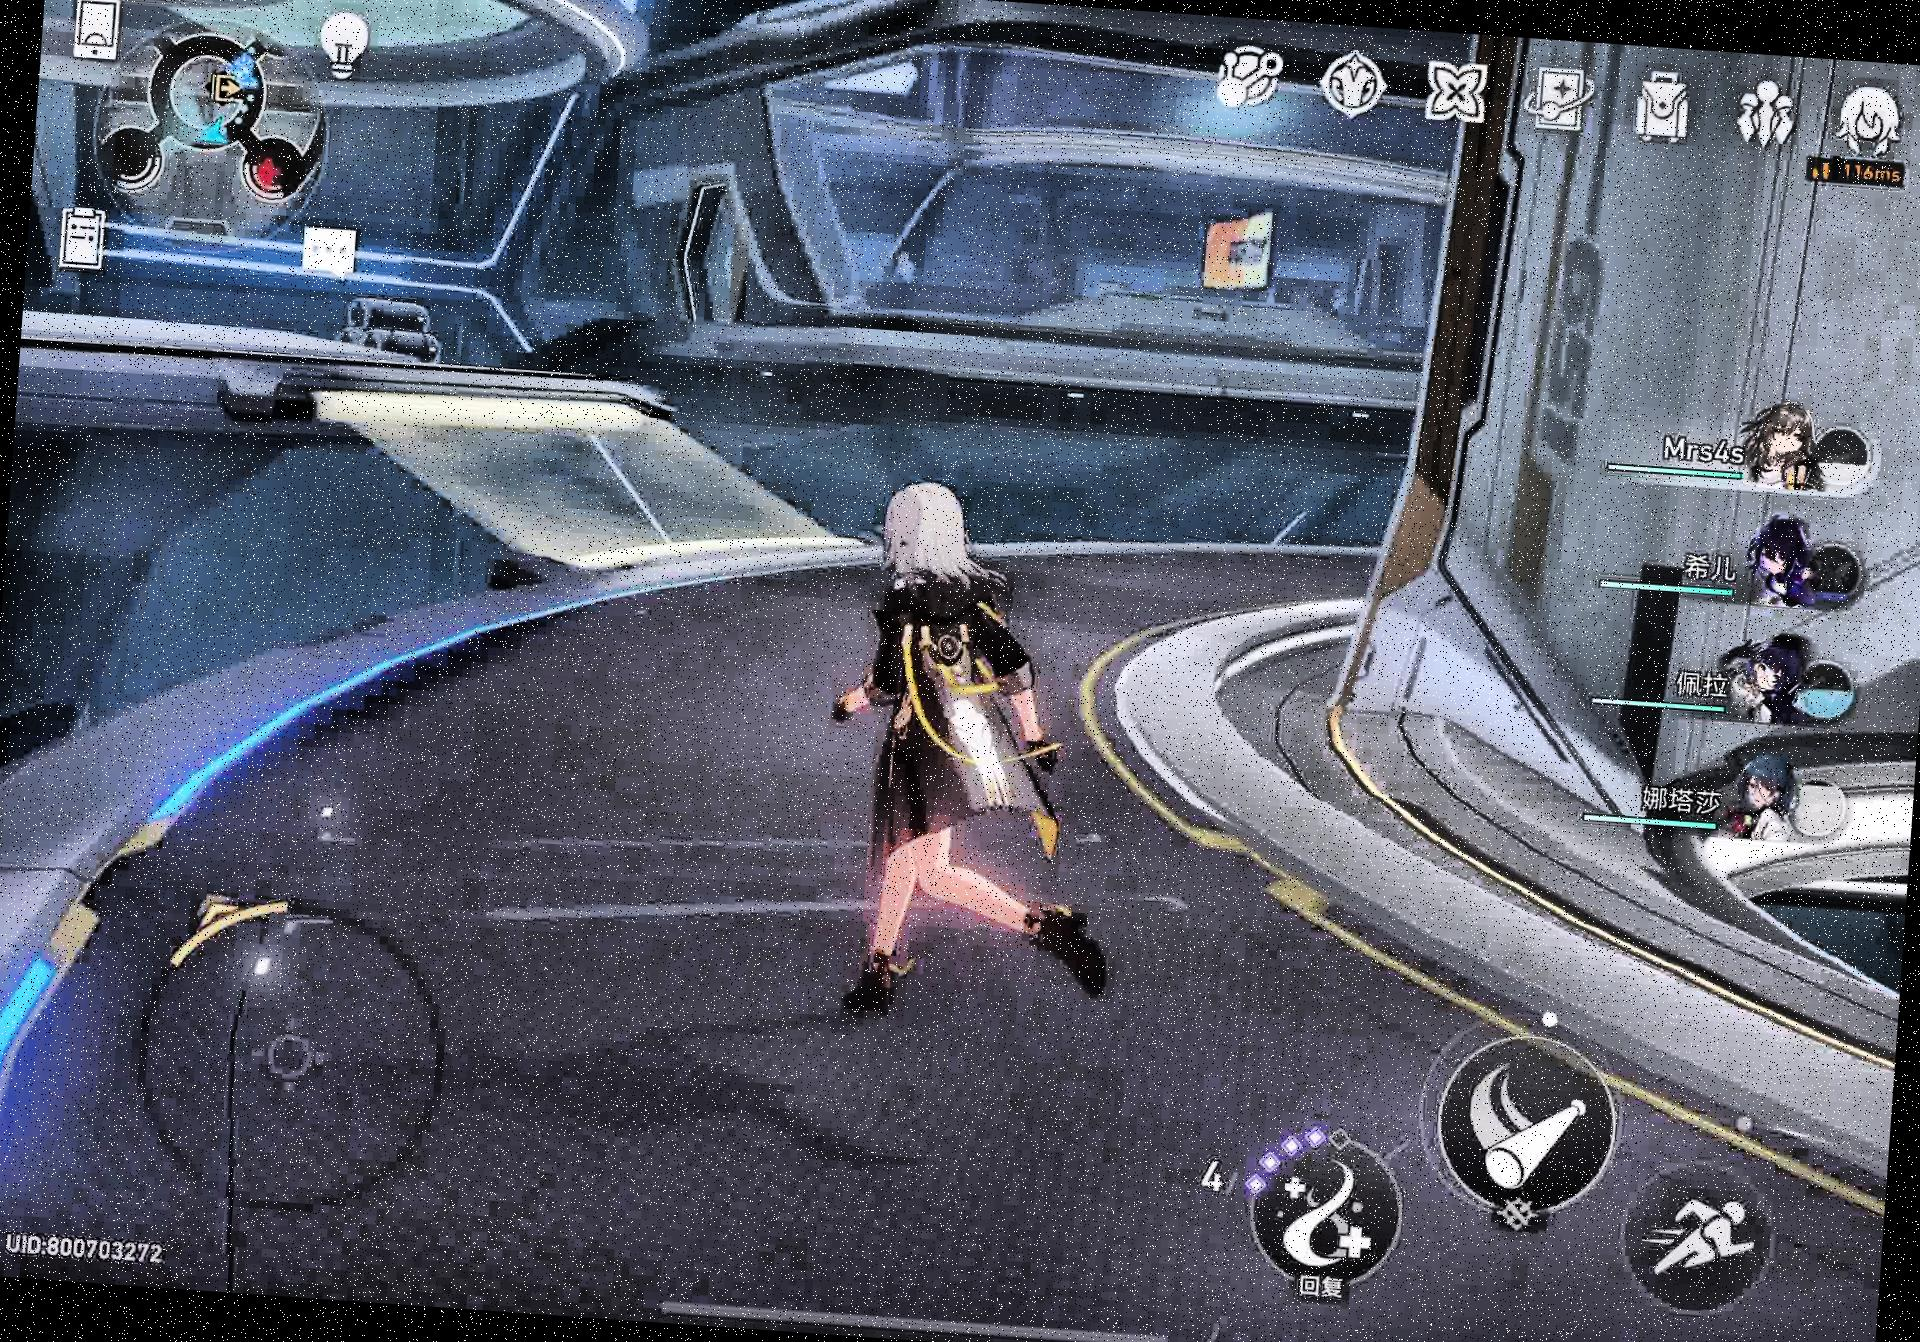Box: (324, 286, 452, 369)
Self: (791, 471, 1161, 1049)
